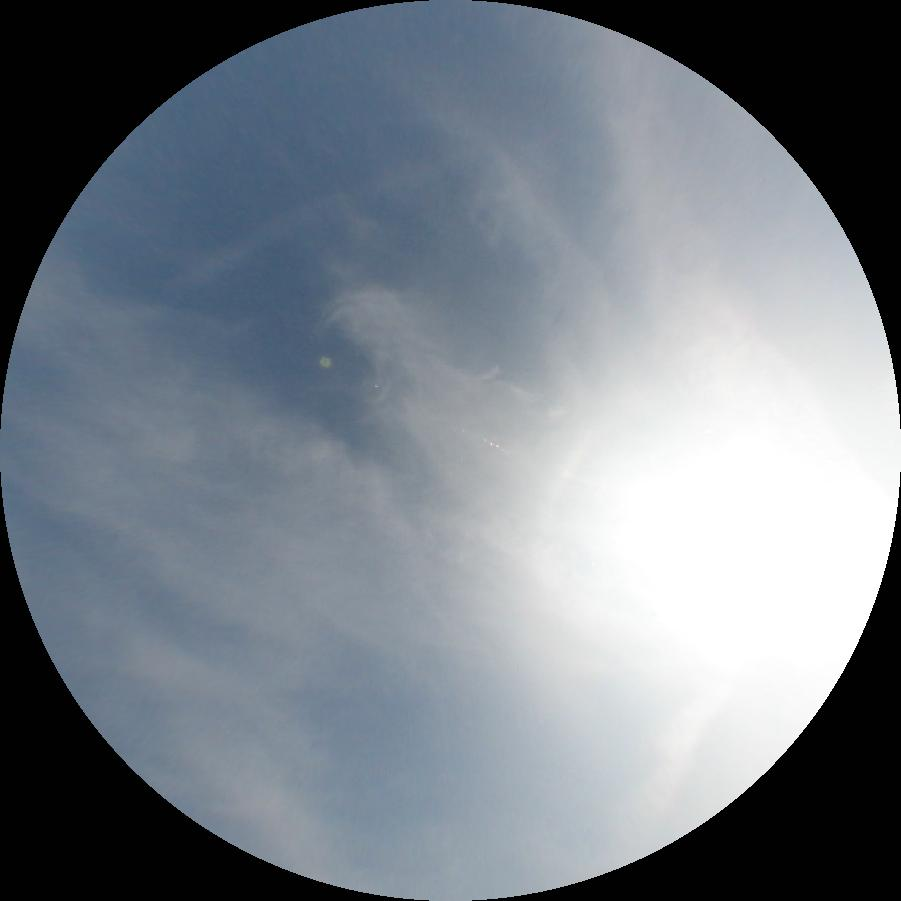contrail veryold: (307, 285, 630, 580), (596, 24, 815, 448), (607, 689, 733, 836), (176, 202, 323, 285)
sun: (621, 438, 818, 634)
